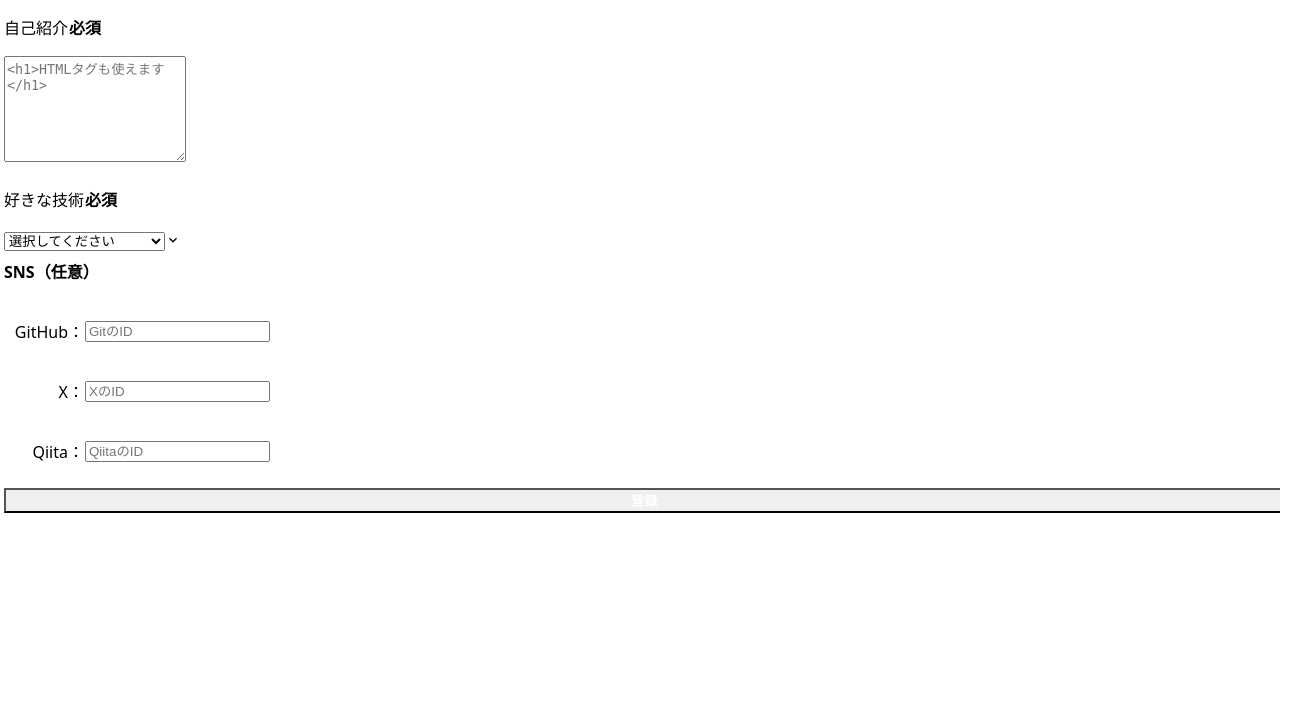
Scenario: 名刺カードのテスト › 紹介分がないときにエラーメッセージがでる
(page scrolled)
Click the button with test id "registerSubmitButton": click(642, 500) [4,488,1280,513]
(page scrolled)
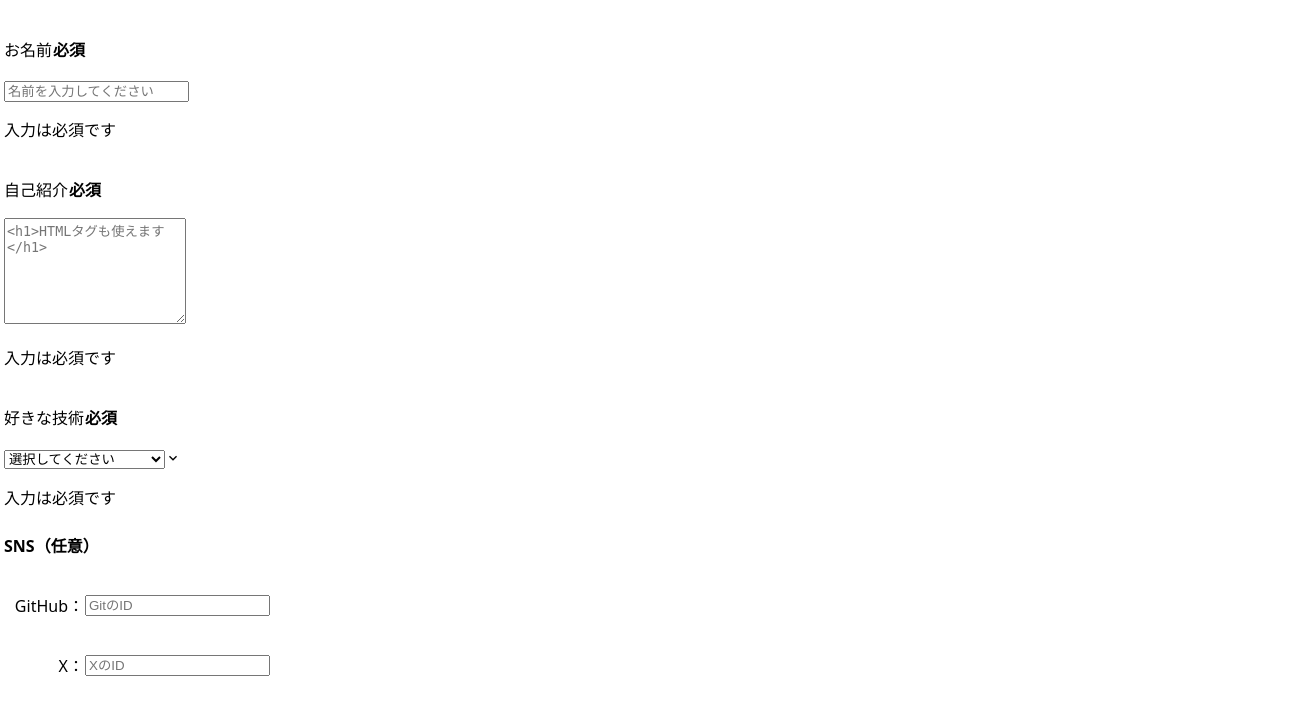
Check: the text with test id "descriptionError" is shown, box [4,347,116,369]
